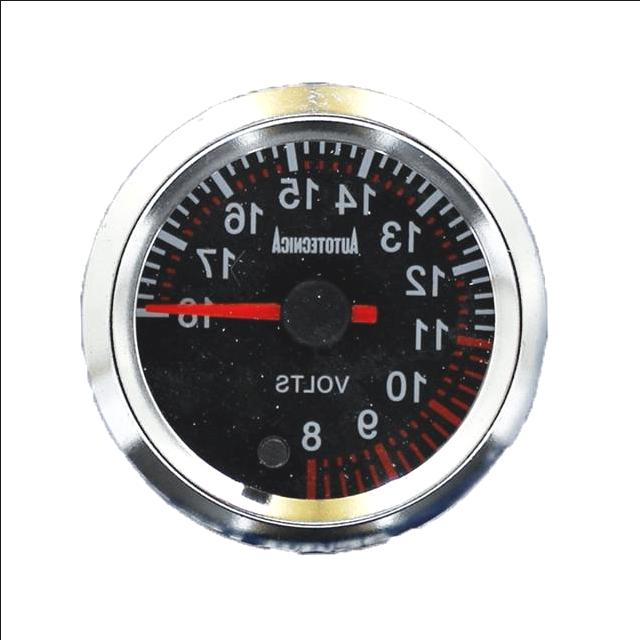Needle_Tip: (124, 291, 188, 328)
Needle_base: (260, 267, 373, 364)
max_value: (160, 287, 219, 343)
min_value: (282, 399, 339, 472)
